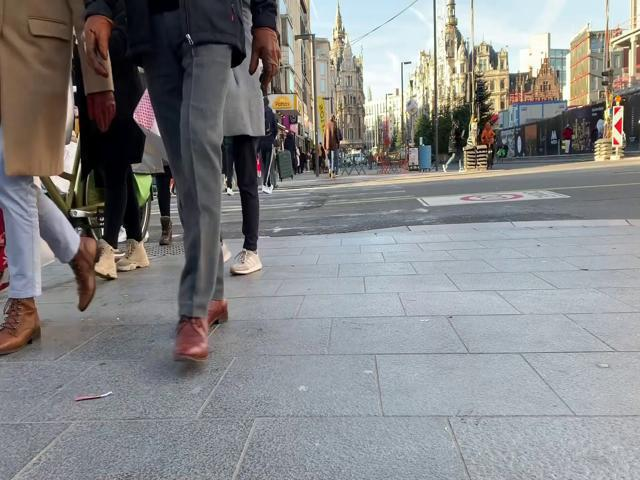shoe: (1, 296, 41, 354), (69, 236, 100, 310), (175, 317, 208, 363), (117, 240, 150, 272), (230, 250, 263, 275), (96, 242, 118, 279), (159, 219, 173, 244)
